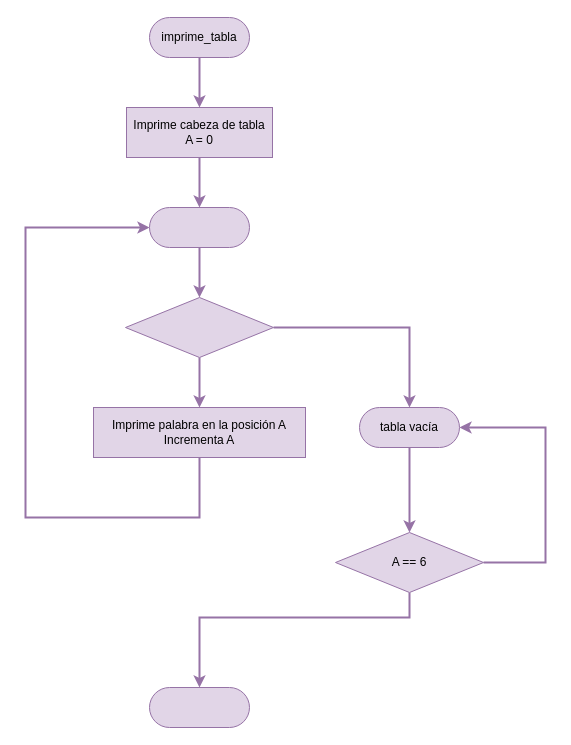
Image size: 571x745. Some labels were removed from this diagram. Here are the shapes that lost their labels. From the top down, the box of each, then its label:
(148, 206, 250, 248): tabla llena
(124, 296, 274, 358): A <= palabras leídas
(148, 686, 250, 728): salir
